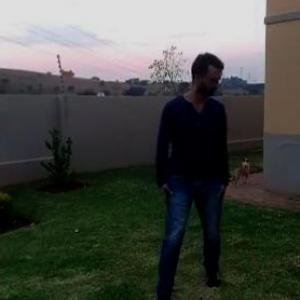follow: (144, 44, 234, 299)
